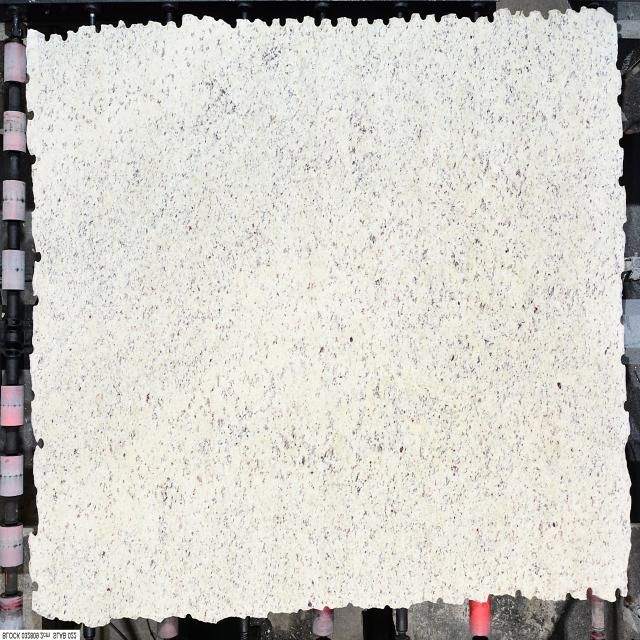chapa: (25, 6, 632, 628)
veio: (172, 15, 185, 29), (612, 586, 622, 604), (30, 578, 40, 594), (35, 436, 45, 452), (540, 8, 552, 21), (276, 16, 288, 28), (28, 152, 38, 166), (92, 23, 102, 37), (230, 16, 240, 30), (584, 587, 594, 601), (618, 173, 626, 190), (25, 109, 35, 122), (59, 32, 68, 46), (330, 17, 340, 29), (486, 12, 496, 24), (32, 295, 40, 308), (42, 33, 52, 43), (350, 17, 360, 27), (34, 251, 42, 263), (314, 16, 322, 28), (404, 14, 412, 24), (514, 590, 522, 600)
